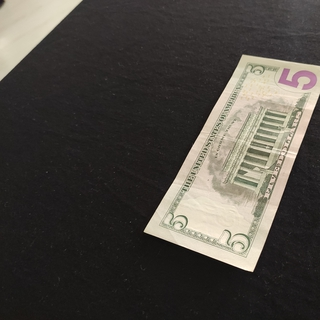5USDBack: (143, 53, 320, 272)
